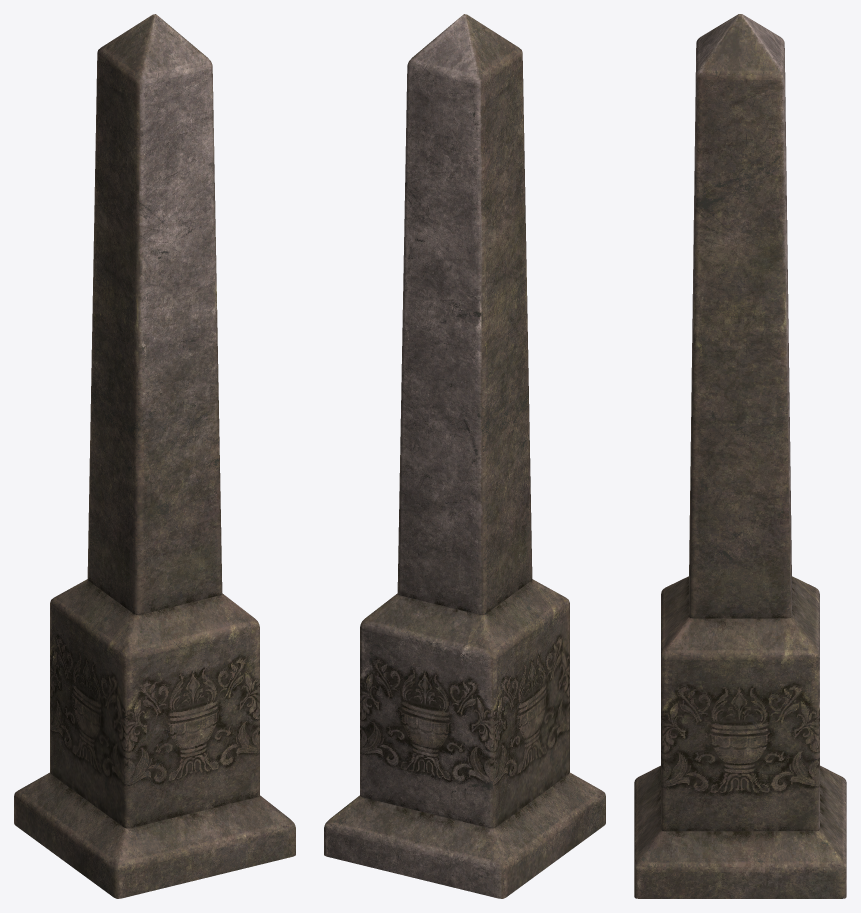
Rendered from SM_gravestone_54.fbx.
3 views of the same model, side by side, from view 1: azimuth 30°, elevation 25°; view 2: azimuth 150°, elevation 25°; view 3: azimuth 270°, elevation 25° (orthographic).
Parts seen in each view (by area): view 1: SM_gravestone_054; view 2: SM_gravestone_054; view 3: SM_gravestone_054.
Part boxes in pixels (x1=…): SM_gravestone_054: x1=14, y1=14, x2=295, y2=898; SM_gravestone_054: x1=324, y1=14, x2=605, y2=898; SM_gravestone_054: x1=634, y1=14, x2=846, y2=898.
Size of the model in its own units: 64.99 by 283 by 64.99.
